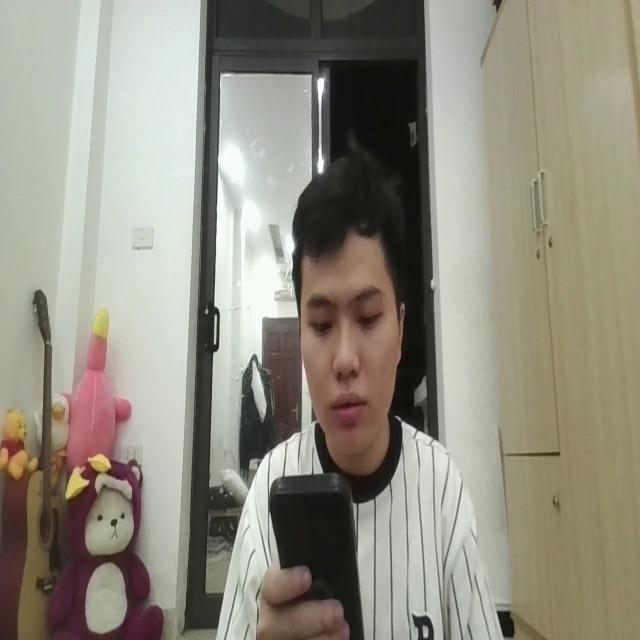phone: (268, 468, 366, 640)
student: (224, 146, 506, 640)
